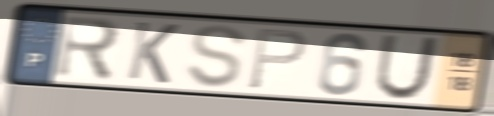6: (314, 31, 368, 97)
K: (123, 19, 181, 87)
P: (245, 27, 309, 92)
R: (53, 13, 125, 85)
S: (182, 22, 249, 91)
U: (371, 33, 442, 103)
